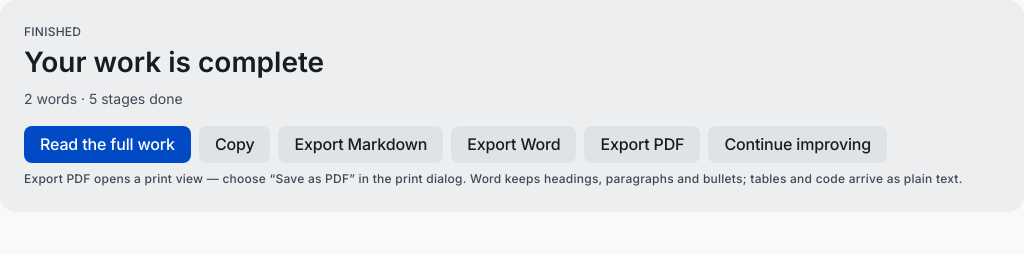
the finished screen puts the work at the centre (C4, Sean 28 Sep item 15) › Copy says which version it copied, and the note goes when another version is shown (Sean, 17 Oct)
The image size is (1024, 254).
Click the button "Copy" at (235, 145), box left=199, top=126, right=270, bottom=163
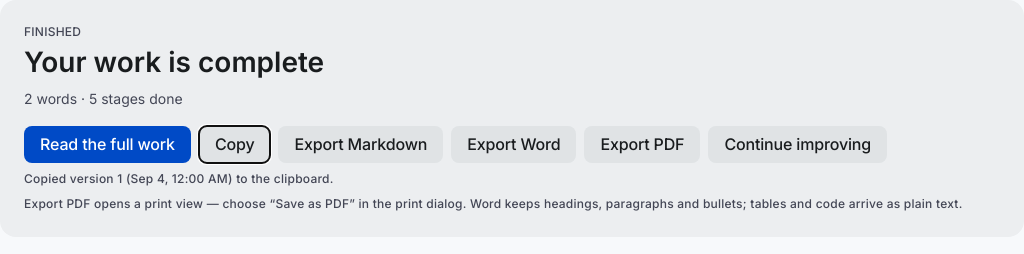
Result: the message reads "Copied version 1 (Sep 4, 12:00 AM) to the clipboard." at left=24, top=171, right=334, bottom=186
